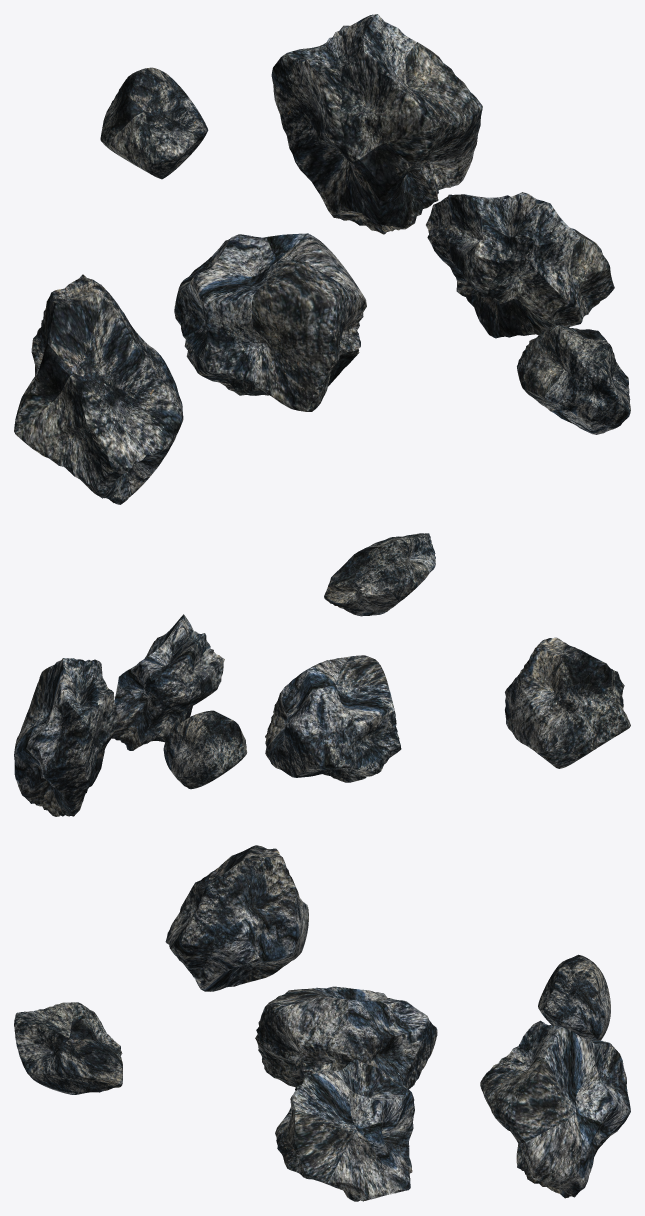
Rendered from rochet.fbx.
3 renders of one model, top to bottom at view 1: azimuth 30°, elevation 25°; view 2: azimuth 150°, elevation 25°; view 3: azimuth 270°, elevation 25°, orthographic. The views are drawn at different scales.
Parts seen in each view (by area): view 1: Icosphère.005, Icosphère, Icosphère.001, Icosphère.004, Icosphère.003, Icosphère.002; view 2: Icosphère, Icosphère.005, Icosphère.001, Icosphère.004, Icosphère.003, Icosphère.002; view 3: Icosphère.005, Icosphère.004, Icosphère.001, Icosphère, Icosphère.003, Icosphère.002.
Boxes of the visible parts, x1=… form: Icosphère.005: x1=271, y1=14, x2=482, y2=234; Icosphère: x1=174, y1=233, x2=366, y2=411; Icosphère.001: x1=14, y1=274, x2=183, y2=504; Icosphère.004: x1=426, y1=192, x2=614, y2=338; Icosphère.003: x1=517, y1=325, x2=630, y2=434; Icosphère.002: x1=100, y1=67, x2=208, y2=179; Icosphère: x1=265, y1=655, x2=401, y2=782; Icosphère.005: x1=14, y1=658, x2=117, y2=816; Icosphère.001: x1=505, y1=637, x2=630, y2=768; Icosphère.004: x1=111, y1=614, x2=224, y2=750; Icosphère.003: x1=324, y1=533, x2=435, y2=616; Icosphère.002: x1=163, y1=710, x2=247, y2=789; Icosphère.005: x1=480, y1=1020, x2=630, y2=1198; Icosphère.004: x1=275, y1=1059, x2=414, y2=1201; Icosphère.001: x1=165, y1=845, x2=308, y2=991; Icosphère: x1=255, y1=986, x2=437, y2=1088; Icosphère.003: x1=14, y1=1002, x2=122, y2=1094; Icosphère.002: x1=538, y1=954, x2=610, y2=1040.
Size of the model in its own units: 2006 by 652 by 2184.
